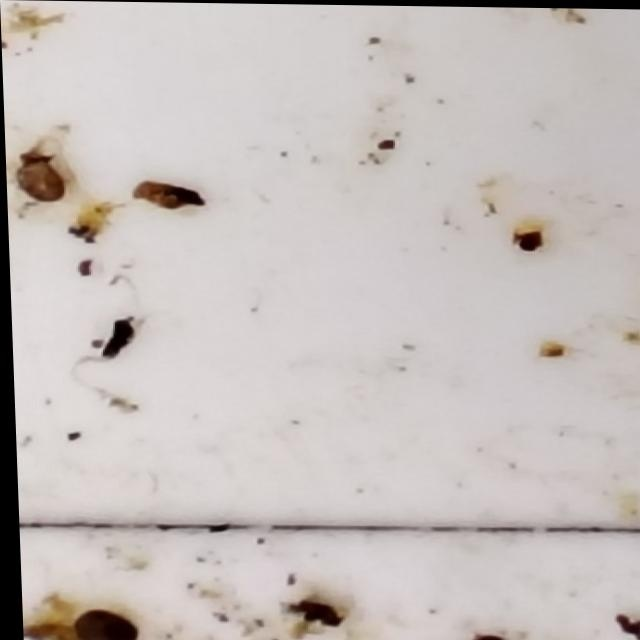varroa: (68, 609, 137, 639), (450, 633, 511, 639)
